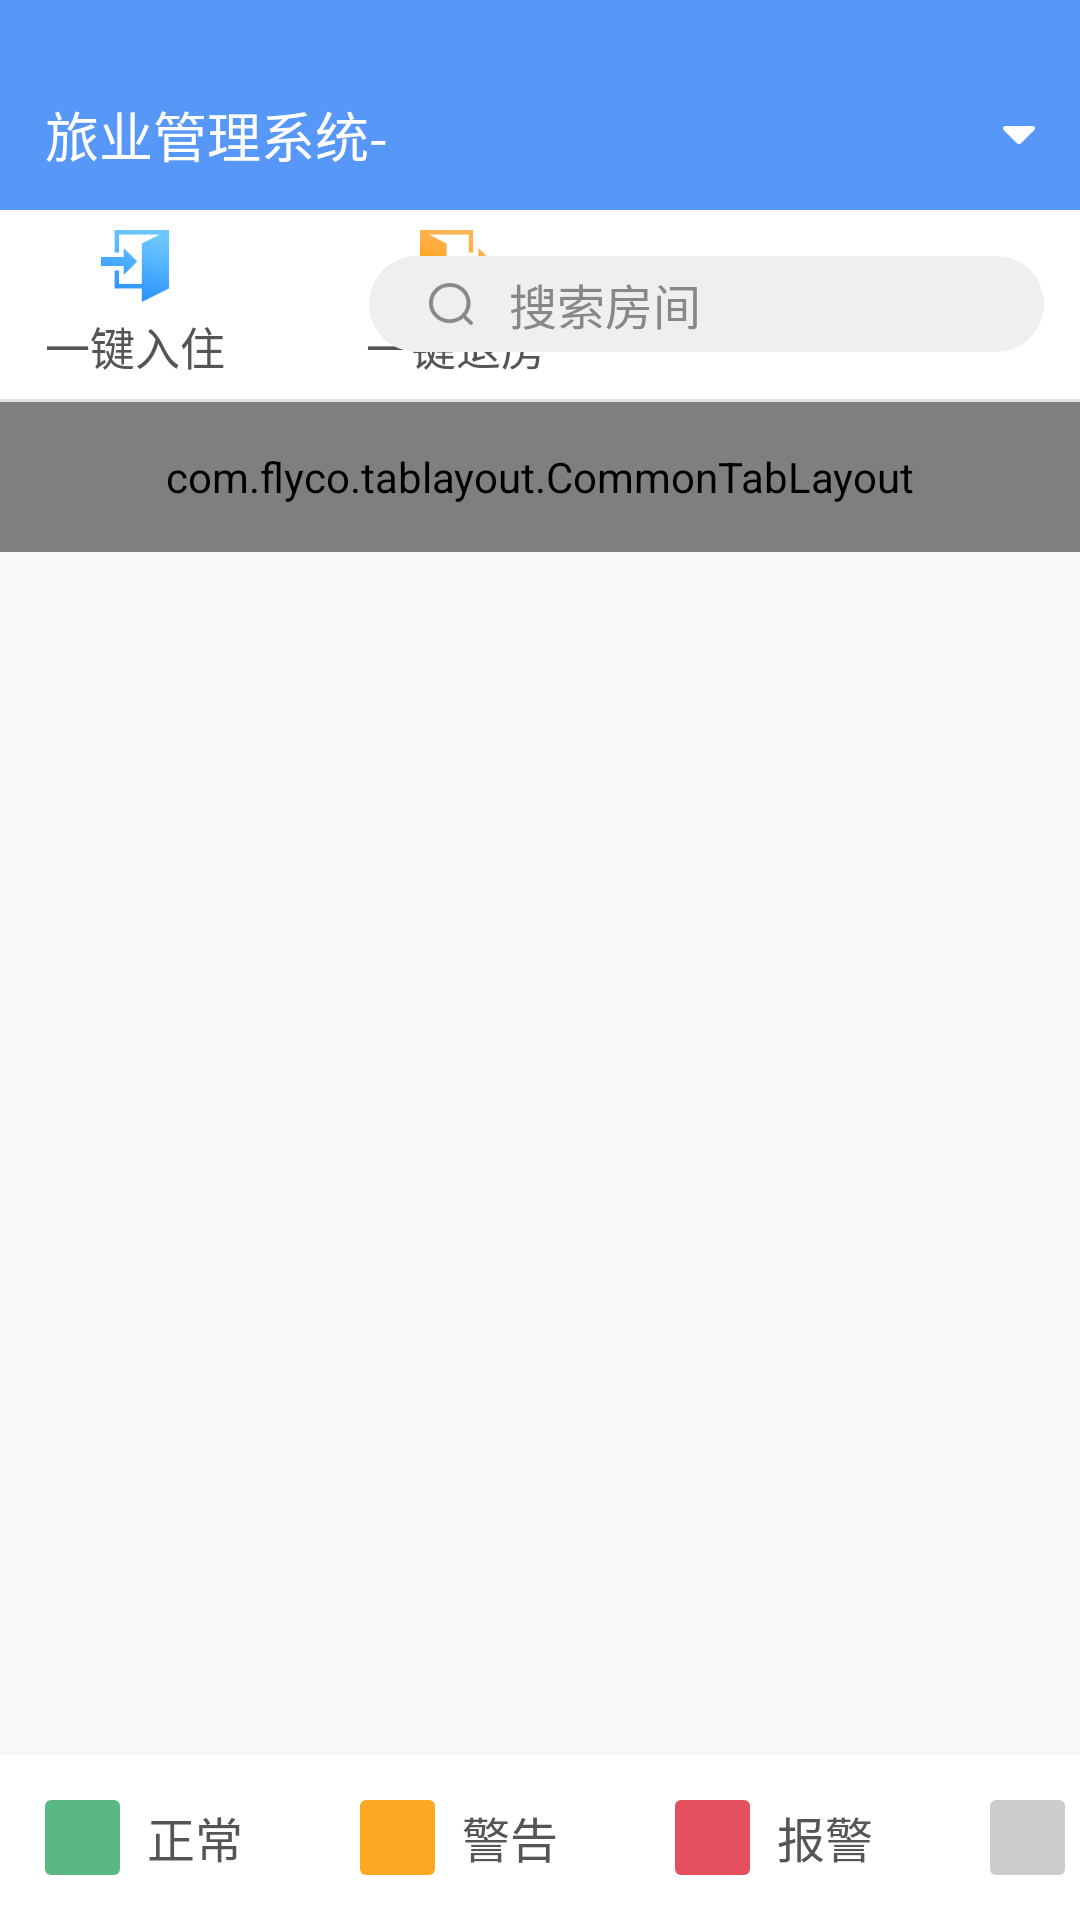

Icons on this 1080×1920 Android screen, each with the point to tap as (x,y):
search: (451,304)
